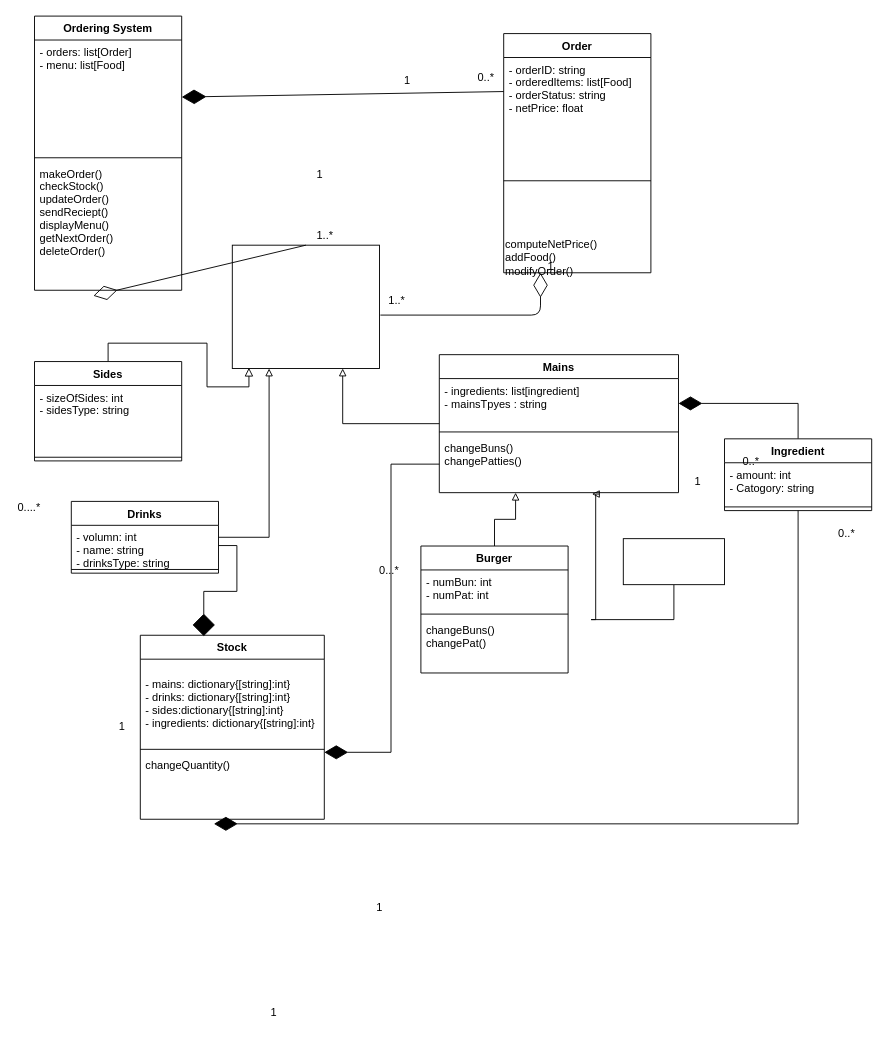
Image size: 888x1038. Some labels were removed from this diagram. The shapes that lost their labels are listed below. From the top down, each one's centre as x and y in pixels, then its label:
At (x=305, y=306): "Food - name: String - price: float computePrice()".
At (x=673, y=561): "Wrap".
